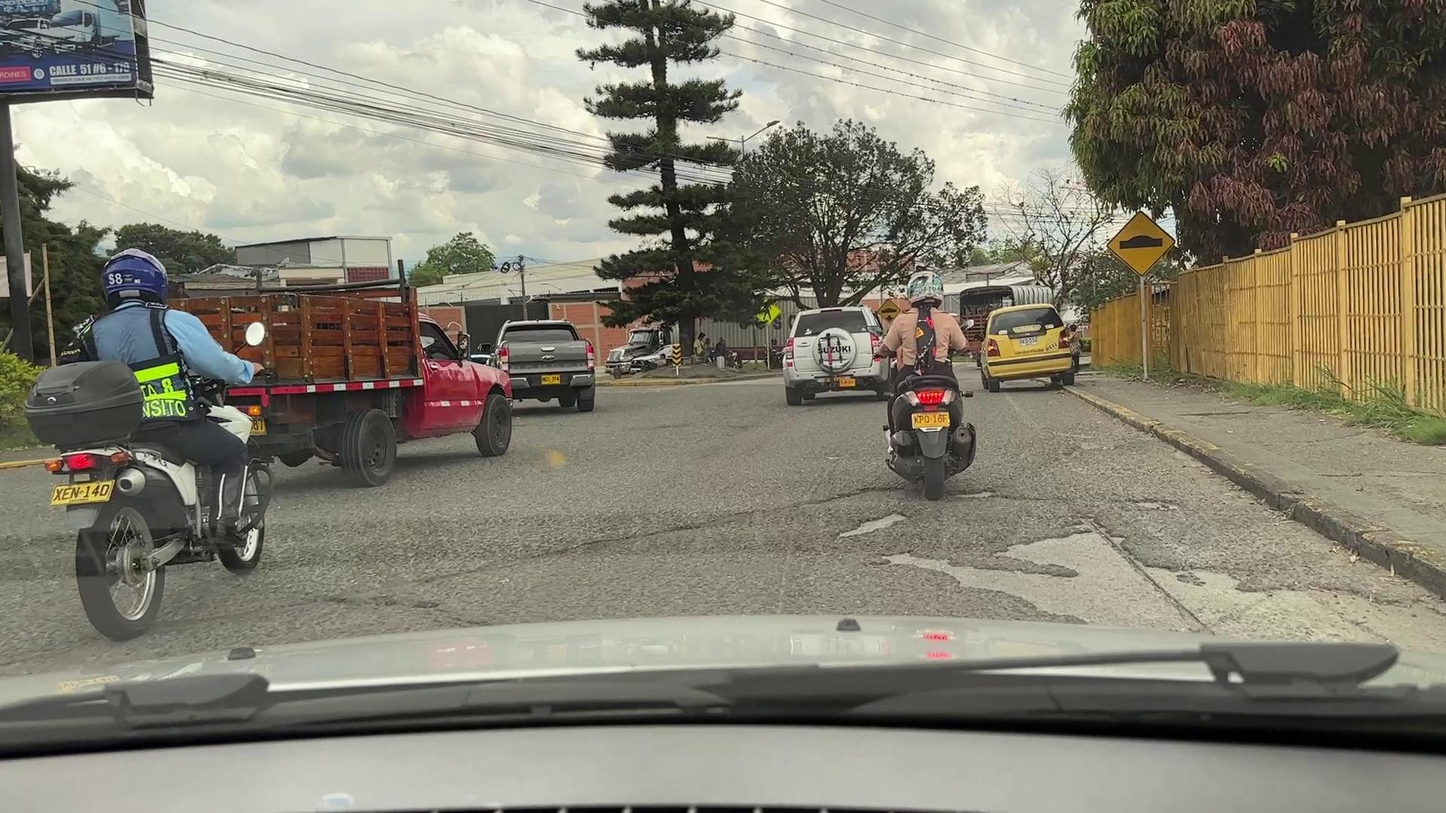bache: (882, 520, 1445, 643), (839, 513, 906, 537), (1132, 499, 1178, 509), (960, 491, 994, 498)
